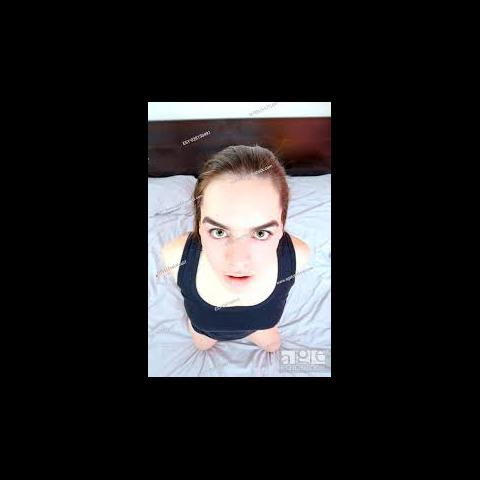opened: (194, 214, 284, 248)
